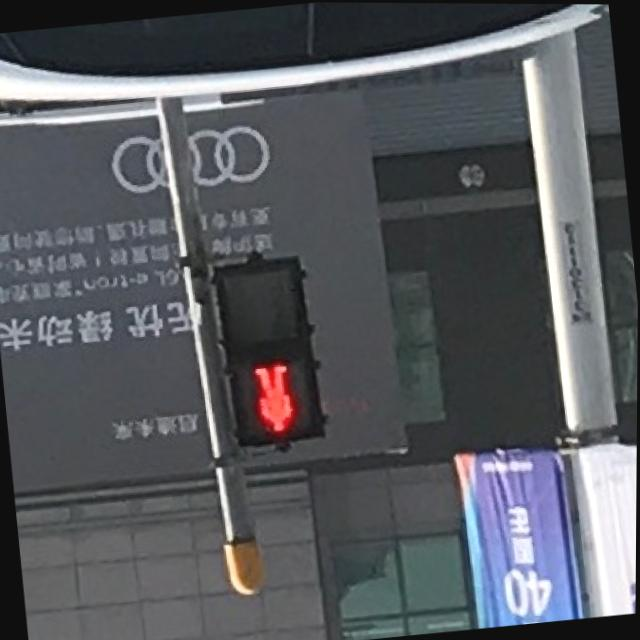red_light: (231, 357, 324, 447)
